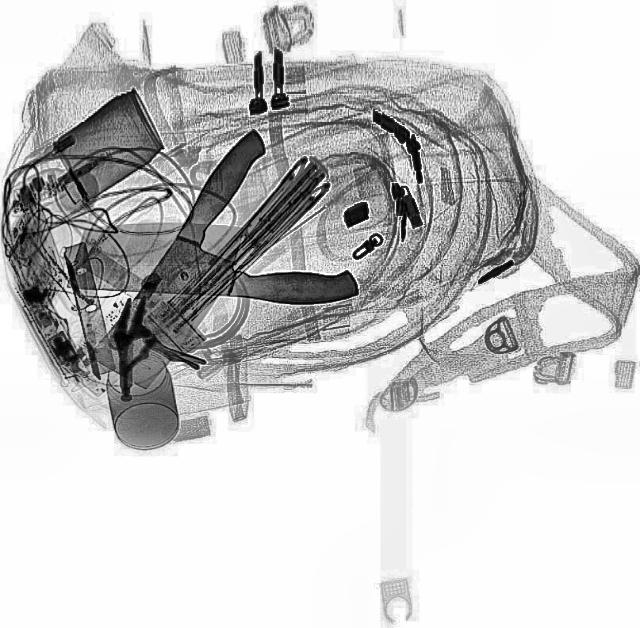Knife: (82, 126, 312, 392), (66, 214, 362, 308)
